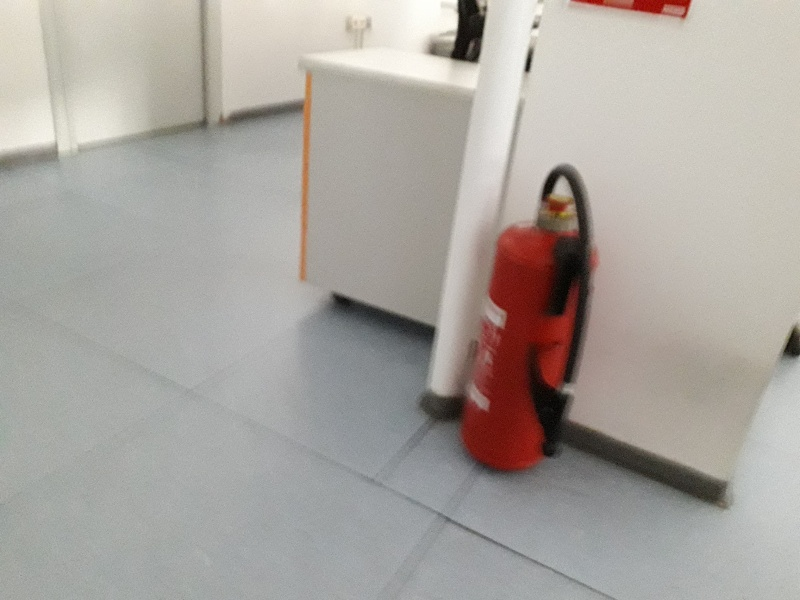vataparat: (459, 163, 596, 472)
